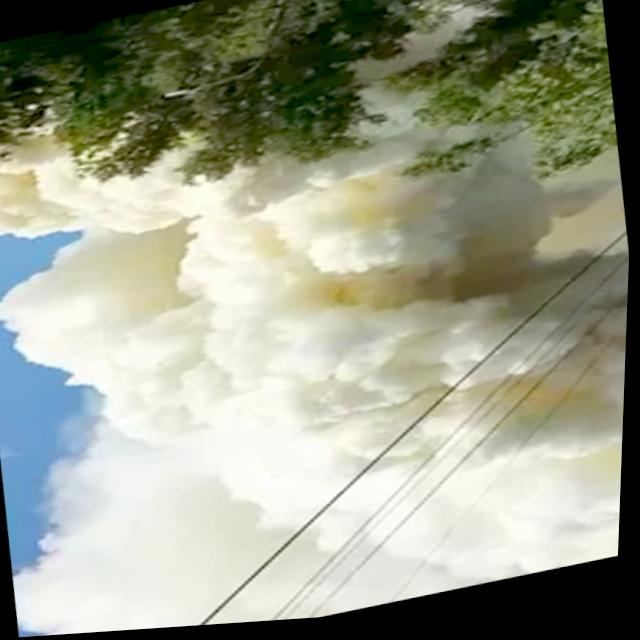no_helmet: (0, 89, 636, 640)
